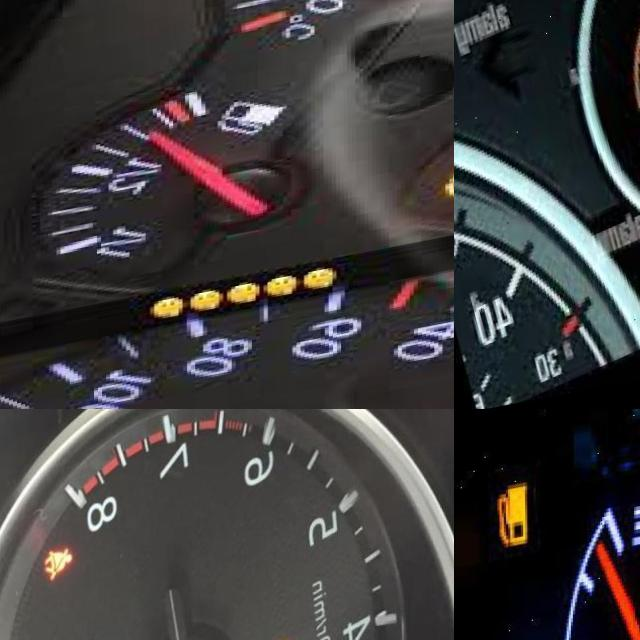Seat Belt: (41, 544, 76, 584)
